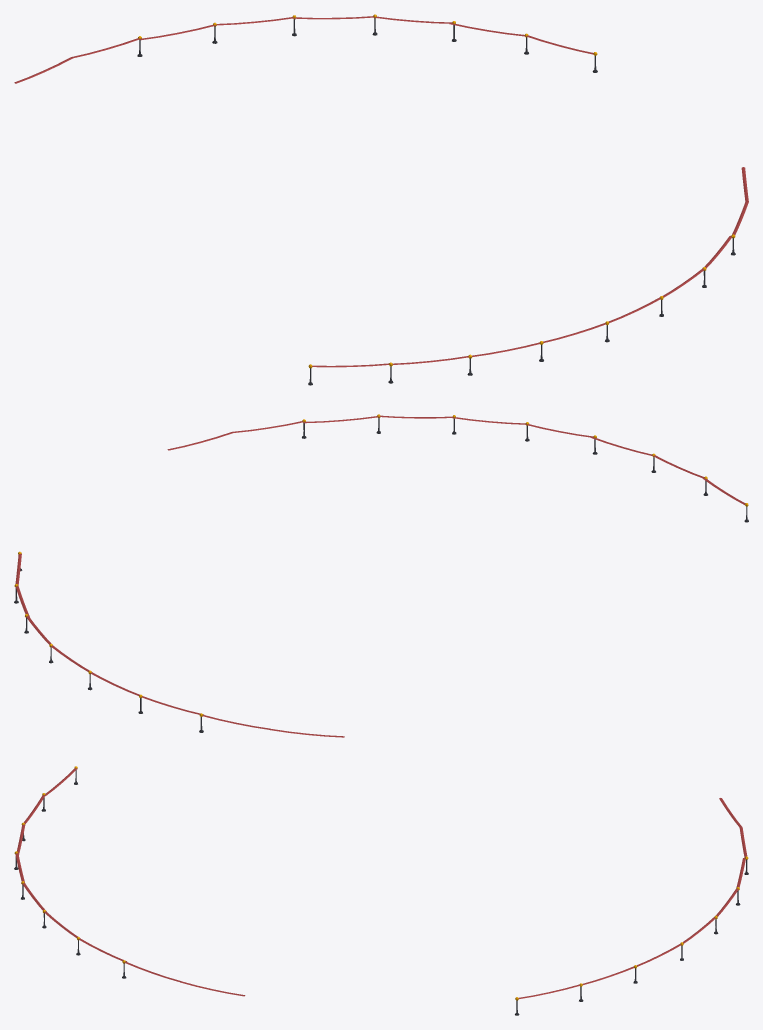
Rendered from Fence.glb.
3 views of the same model, one above another, from view 1: azimuth 30°, elevation 25°; view 2: azimuth 150°, elevation 25°; view 3: azimuth 270°, elevation 25° (orthographic). The views are drawn at different scales.
Parts seen in each view (by area): view 1: Object_2.040; view 2: Object_2.040; view 3: Object_2.040.
Part boxes in pixels (x1=…): Object_2.040: x1=14, y1=14, x2=748, y2=385; Object_2.040: x1=14, y1=414, x2=748, y2=737; Object_2.040: x1=14, y1=766, x2=748, y2=1015.
Size of the model in its own units: 9.76 by 0.3624 by 13.04.
